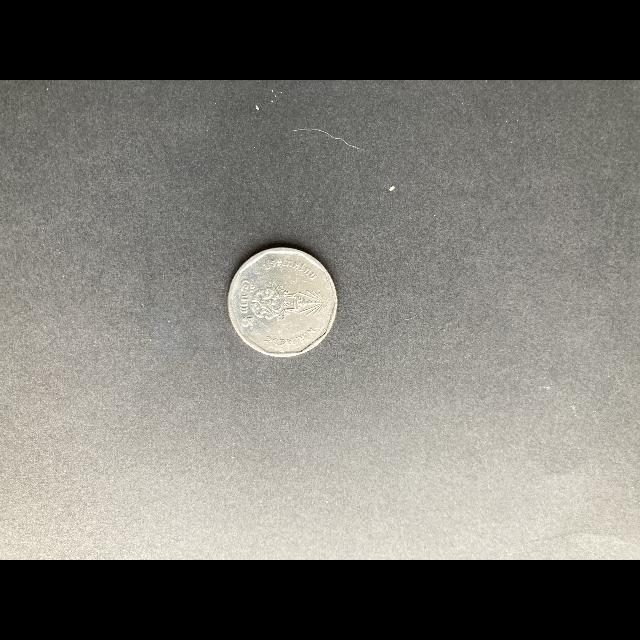5 Bath: (227, 244, 341, 361)
